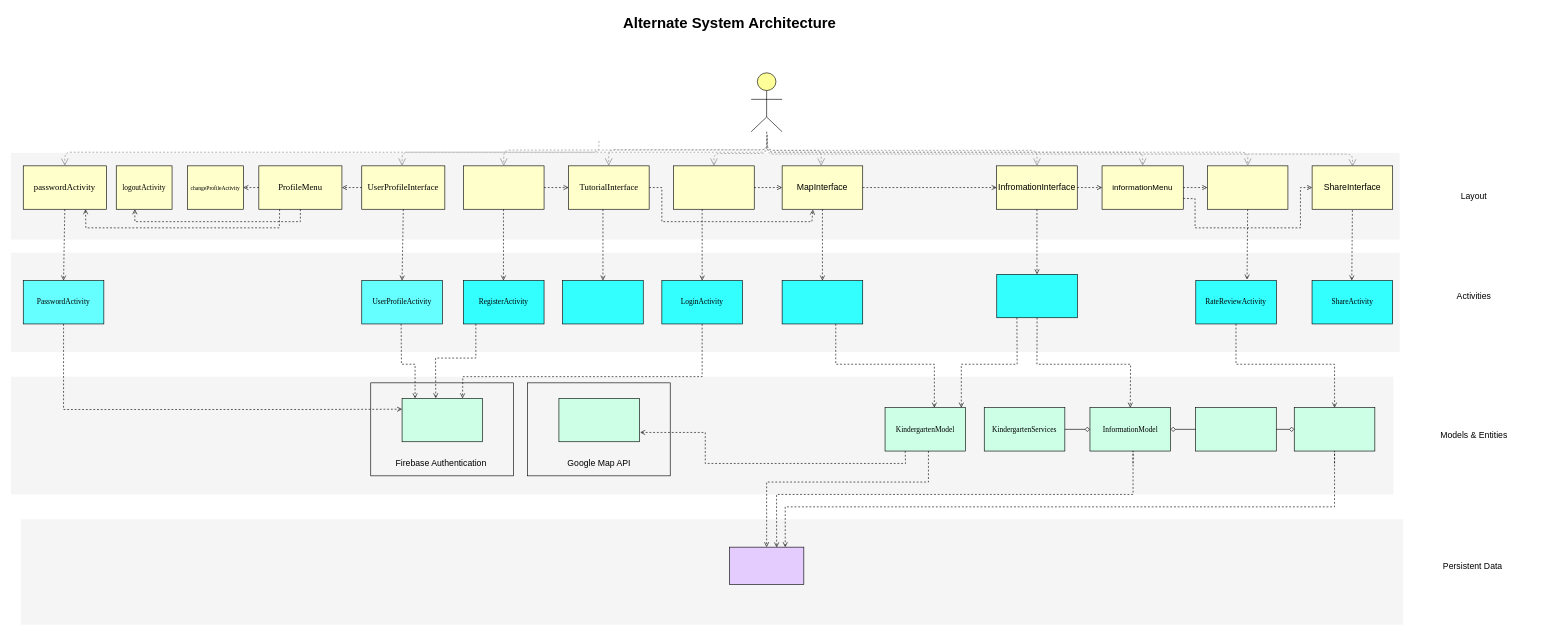
Image size: 1559x635. Some labels were removed from this diagram. The shapes that lost their labels are listed below. From the top down, each one's centre as x and y in pixels, then its label:
the point at 503,187: RegisterInterface
the point at 713,187: LoginInterface
the point at 1247,187: RateReviewInterface
the point at 602,302: TutorialActivity
the point at 822,302: MapsActivity
the point at 1036,296: InfromationActivity
the point at 1235,429: RateReview
the point at 1334,429: RateReviewModel
the point at 766,565: Firebase Datastore
